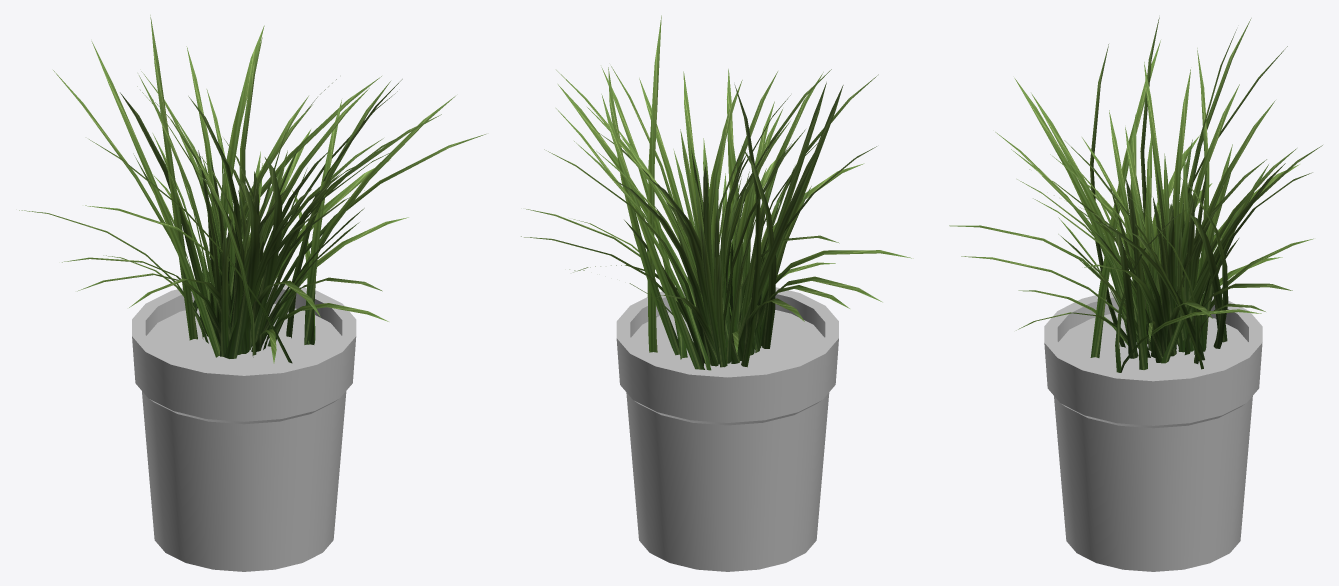
The model's file is Plant 2.fbx.
The picture shows the model from 3 angles, left to right: view 1: azimuth 30°, elevation 25°; view 2: azimuth 150°, elevation 25°; view 3: azimuth 270°, elevation 25°; orthographic projection. The views are drawn at different scales.
Parts seen in each view (by area): view 1: Plant 2; view 2: Plant 2; view 3: Plant 2.
Part boxes in pixels (x1,y1,x2,y2): Plant 2: (19,15,485,571); Plant 2: (521,15,913,571); Plant 2: (949,17,1322,571).
Bounding box in the file's own units: 20.87 × 26.76 × 19.05.
